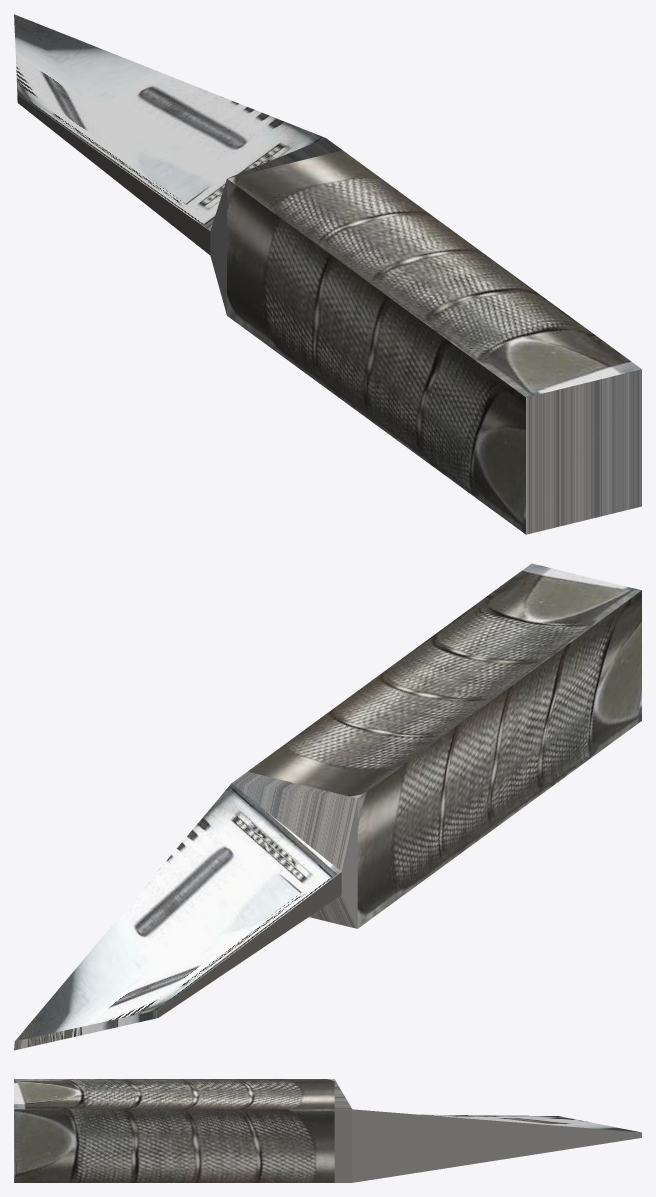
Rendered from knife.glb.
3 views of the same model, one above another, from view 1: azimuth 30°, elevation 25°; view 2: azimuth 150°, elevation 25°; view 3: azimuth 270°, elevation 25° (orthographic). The views are drawn at different scales.
Visible parts, largest first — view 1: knife; view 2: knife; view 3: knife.
Boxes of the visible parts, box(x1,y1,x2,y2) form: knife: box(14, 14, 641, 534); knife: box(14, 563, 641, 1050); knife: box(14, 1079, 641, 1182).
Size of the model in its own units: 0.039 by 0.0441 by 0.3412.
Materials: 1 (1 with a texture image).
